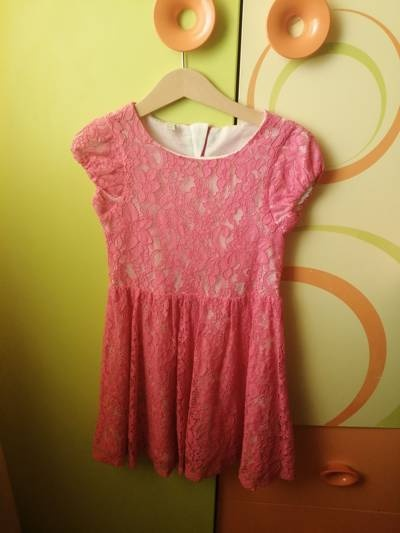Dress: (75, 75, 356, 488)
